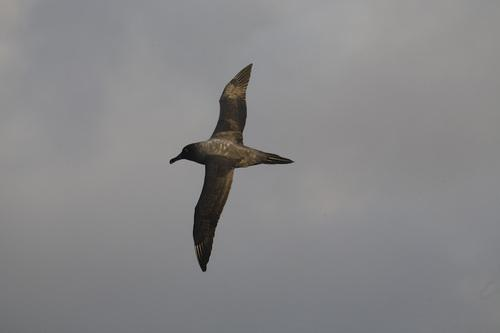003.Sooty_Albatross: (170, 64, 292, 277)
